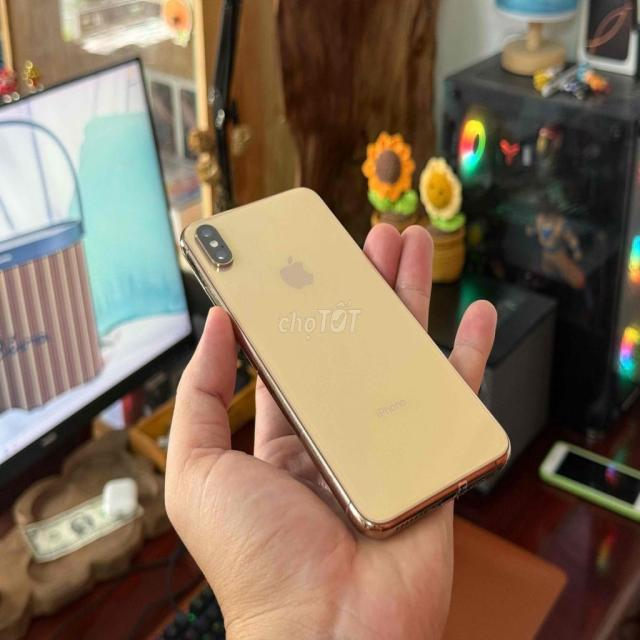gen_x_xs: (181, 188, 509, 537)
